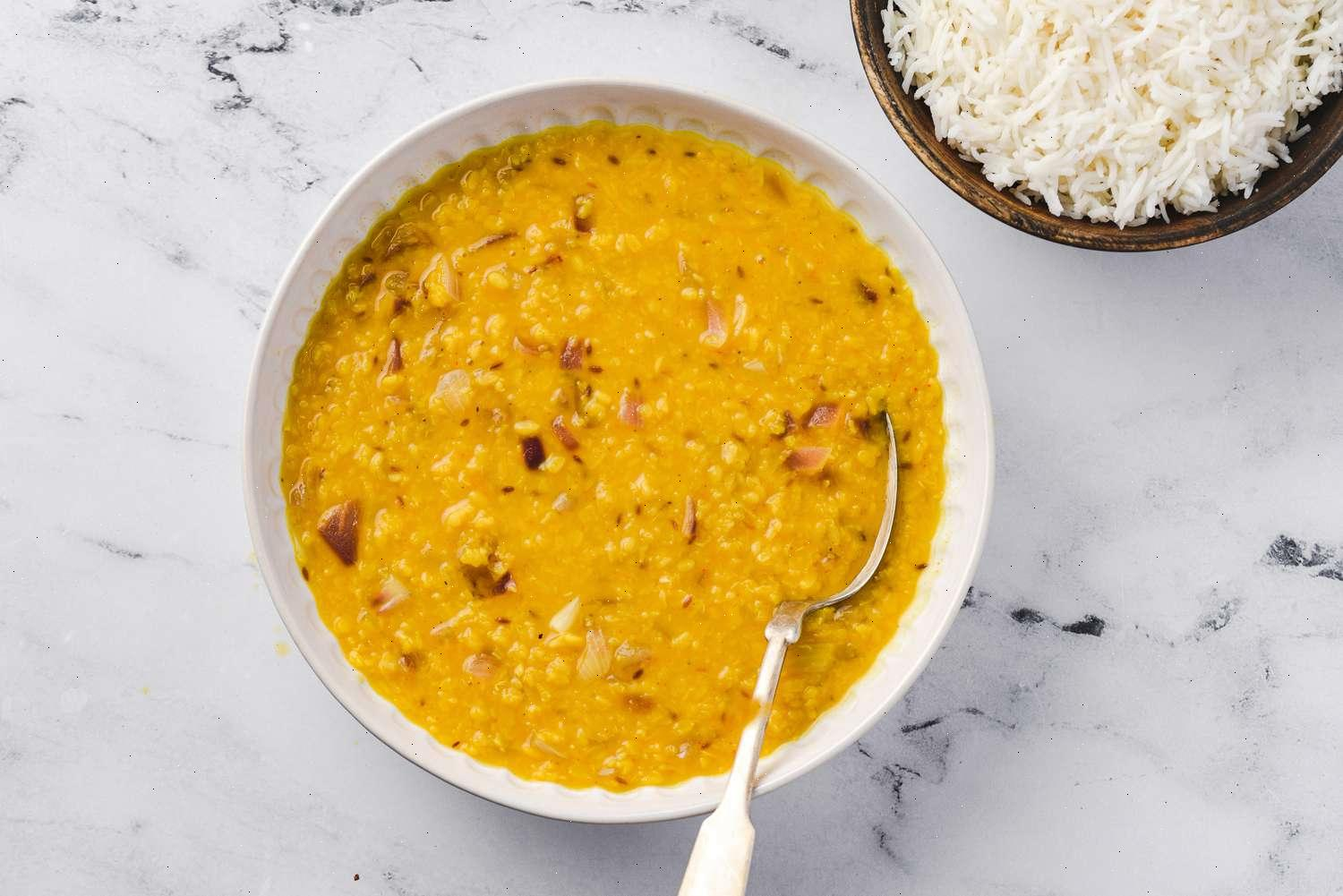daal: (282, 123, 948, 799)
rice: (873, 0, 1343, 227)
